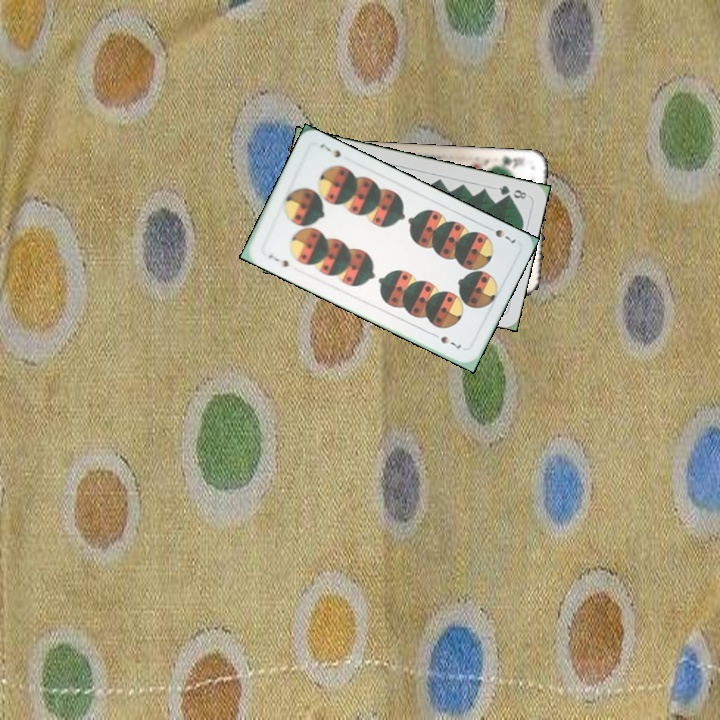G8: (494, 181, 529, 201)
GK: (491, 152, 526, 171)
S7: (482, 222, 518, 246), (264, 250, 292, 270)
